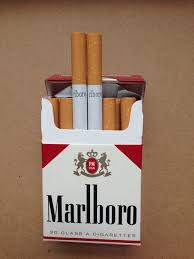marlboro: (42, 98, 141, 245)
